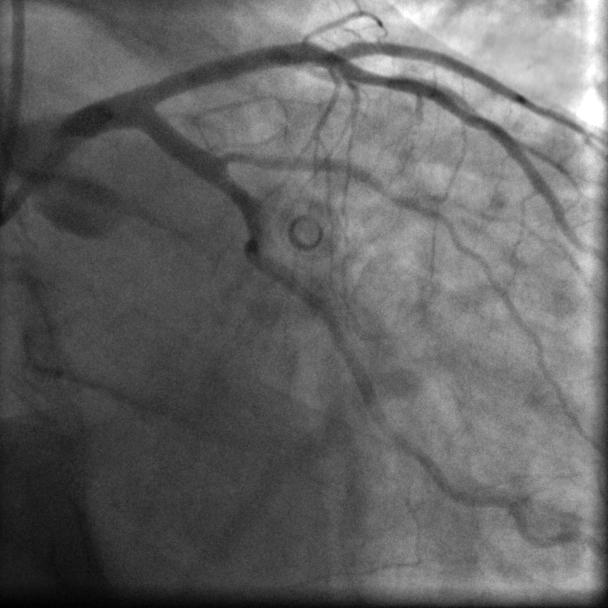Stenosis: (214, 145, 254, 174)
